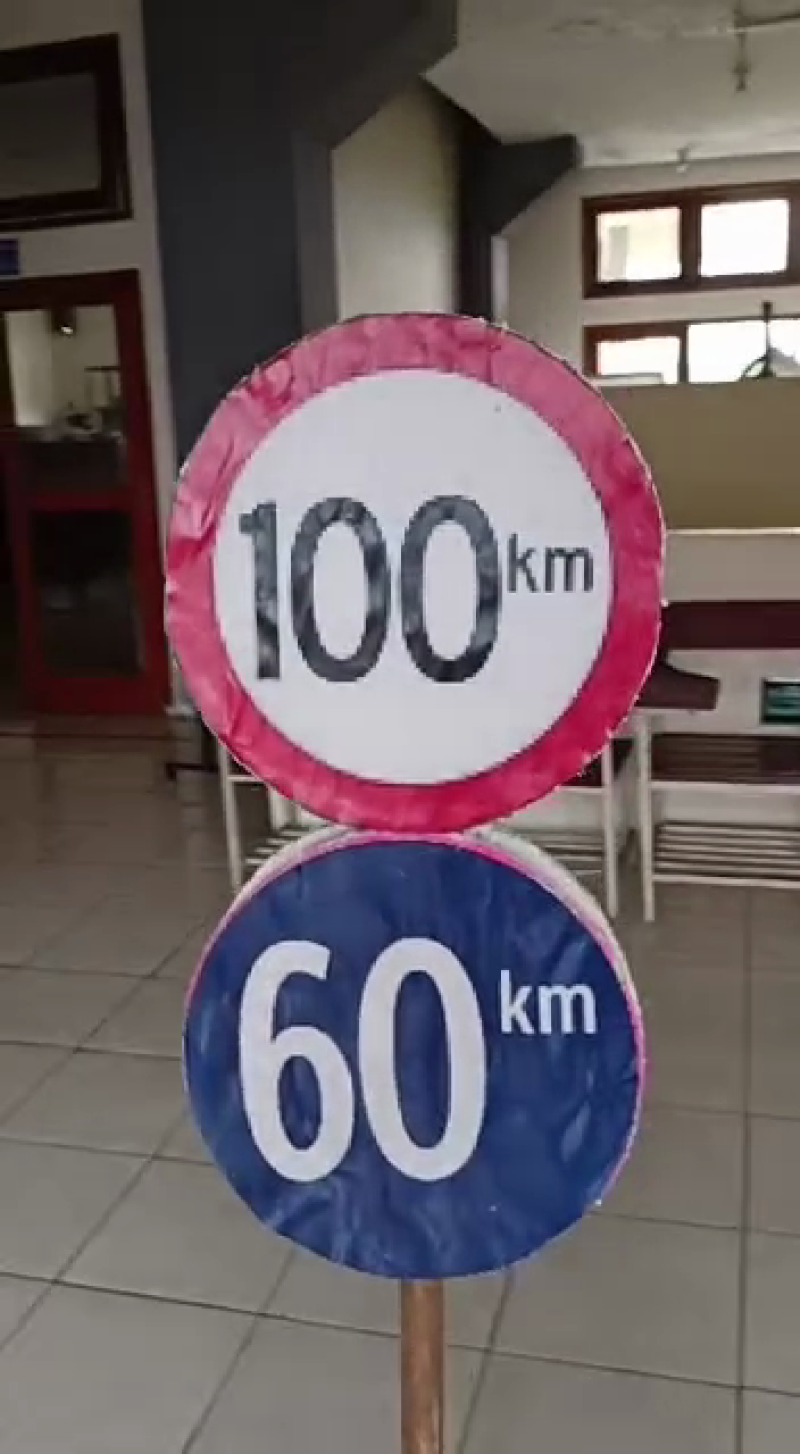batas maksimal 100kmperjam minimal 60kmperjam: (158, 290, 678, 1282)
